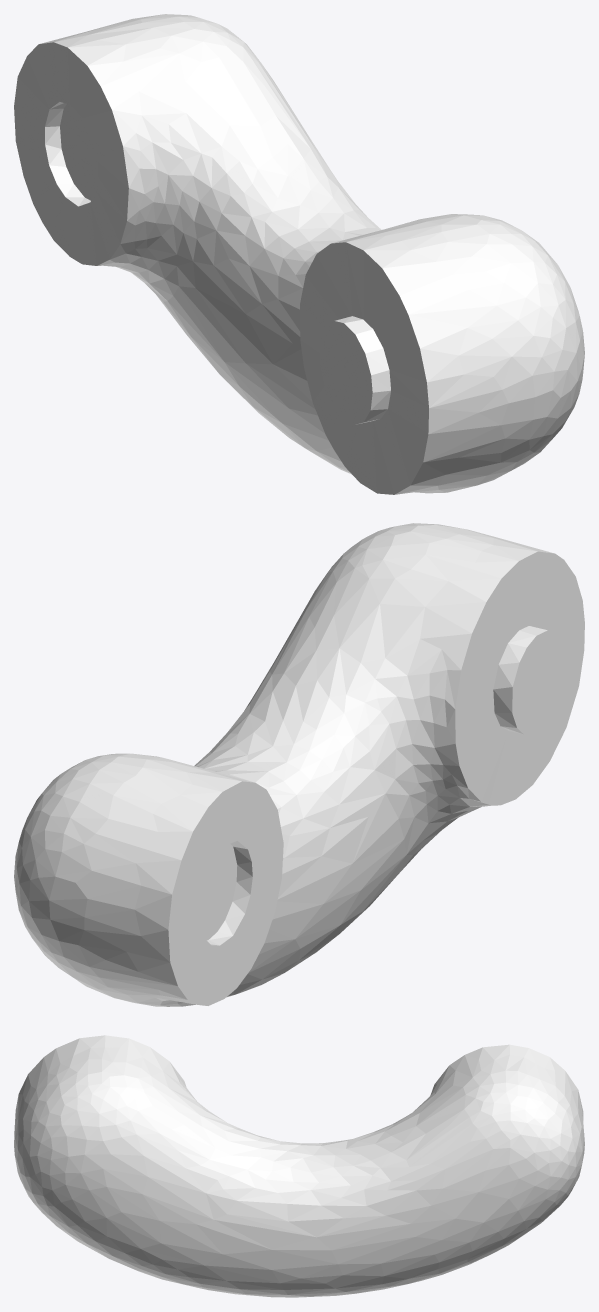
File: j1Starm.dae
3 renders of one model, top to bottom at view 1: azimuth 30°, elevation 25°; view 2: azimuth 150°, elevation 25°; view 3: azimuth 270°, elevation 25°, orthographic. The views are drawn at different scales.
Parts seen in each view (by area): view 1: tmp_export_j1Starm; view 2: tmp_export_j1Starm; view 3: tmp_export_j1Starm.
Boxes of the visible parts, x1,y1,x2,y2 form: tmp_export_j1Starm: (14, 14, 584, 494); tmp_export_j1Starm: (14, 523, 584, 1006); tmp_export_j1Starm: (14, 1035, 584, 1297).
Size of the model in its own units: 0.0715 by 0.2351 by 0.0989.
1 material, 1 textured.
